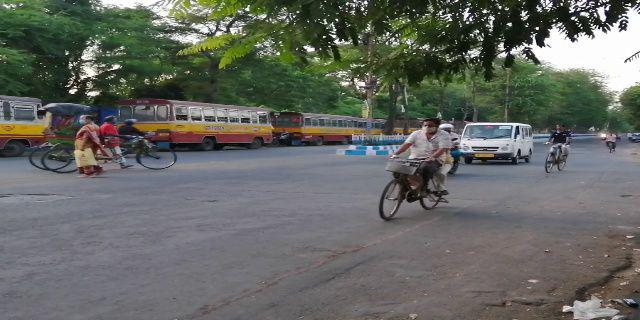Bus: (117, 95, 274, 151), (274, 108, 364, 149), (3, 95, 45, 159)
Cycle: (376, 119, 448, 224), (540, 121, 570, 179)
Minitruck: (459, 121, 537, 168)
Rickshaw: (20, 99, 183, 174)
